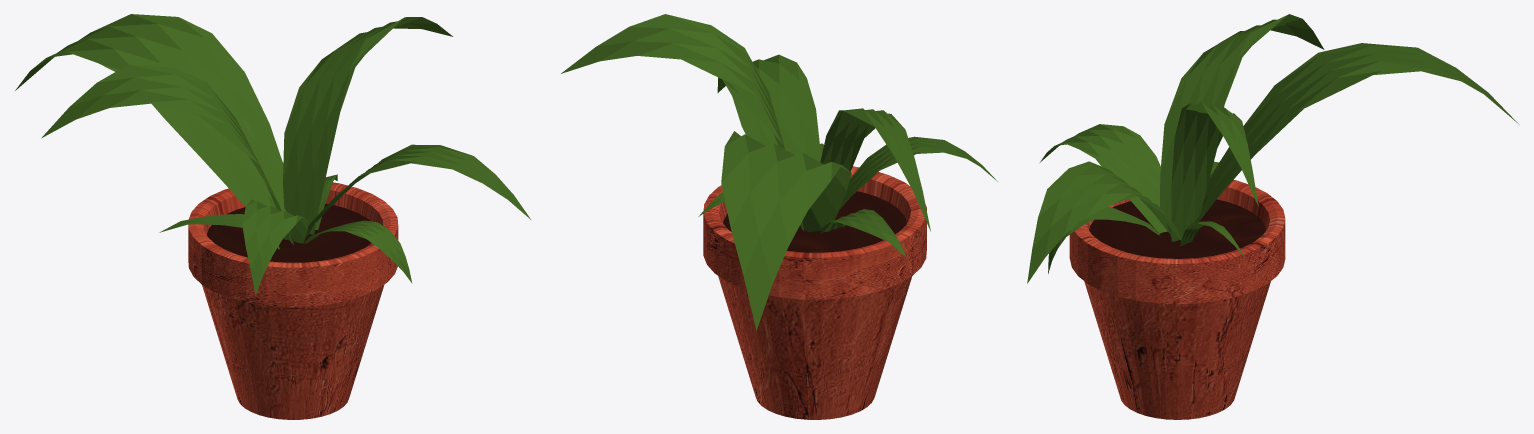
The model's file is VasoPlantaPequeno.fbx.
3 views of the same model, side by side, from view 1: azimuth 30°, elevation 25°; view 2: azimuth 150°, elevation 25°; view 3: azimuth 270°, elevation 25° (orthographic). The views are drawn at different scales.
Visible parts, largest first — view 1: VasoPlantaPequeno; view 2: VasoPlantaPequeno; view 3: VasoPlantaPequeno.
Boxes of the visible parts, bbox=[...] form: VasoPlantaPequeno: bbox=[15, 14, 530, 419]; VasoPlantaPequeno: bbox=[561, 14, 997, 419]; VasoPlantaPequeno: bbox=[1027, 14, 1519, 419].
Size of the model in its own units: 199 by 168 by 217.
